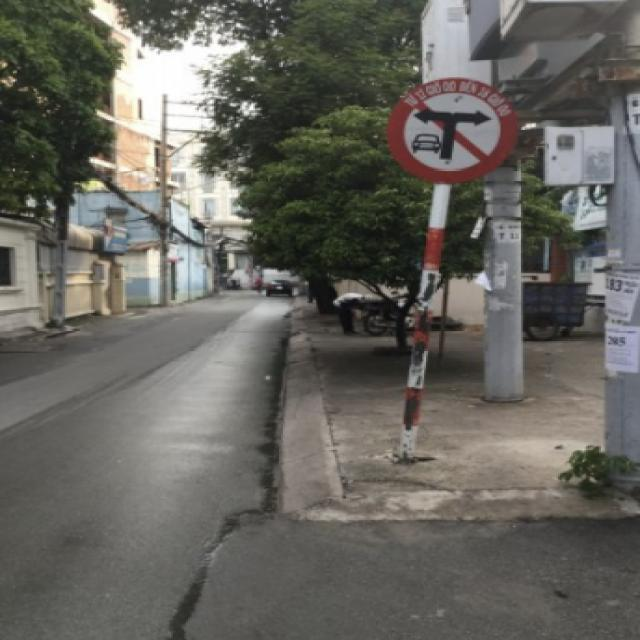137-cam-re-trai-va-re-phai: (384, 78, 516, 184)
